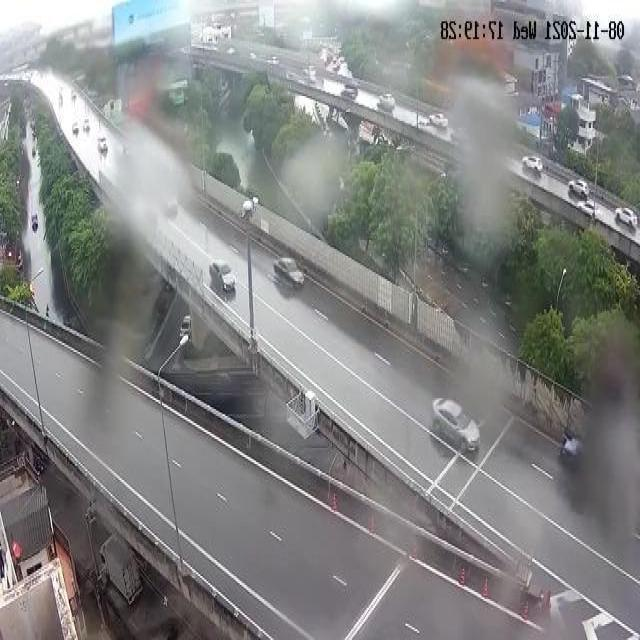Car: (432, 393, 481, 456), (273, 256, 304, 288), (209, 259, 235, 291), (615, 206, 638, 230), (568, 179, 590, 200), (522, 155, 542, 176), (428, 112, 448, 130), (180, 313, 192, 342), (379, 93, 395, 110), (97, 136, 109, 154), (341, 88, 356, 102), (344, 81, 358, 96), (31, 213, 38, 231), (331, 56, 338, 73), (82, 119, 90, 131), (271, 56, 280, 65), (72, 123, 79, 133), (85, 285, 87, 289)
Truck: (100, 534, 142, 606)
